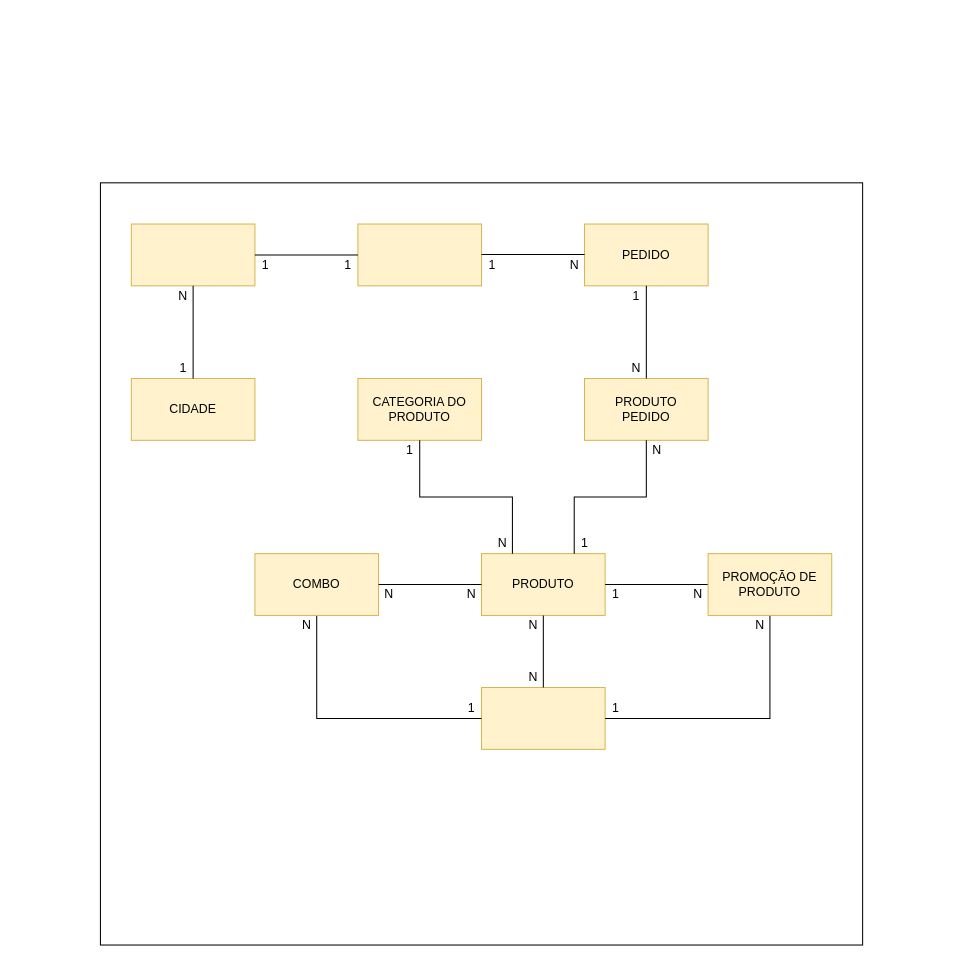
Some shapes in this 962 by 963 pixel diagram are drawn without their labels. The shapes that lost their labels are listed below. From the top down, each one's box as (x1, y1, x2, y2) in pixels, then its label:
(130, 223, 255, 286): ENDEREÇO
(357, 223, 482, 286): CLIENTE
(480, 686, 605, 749): IMAGEM
